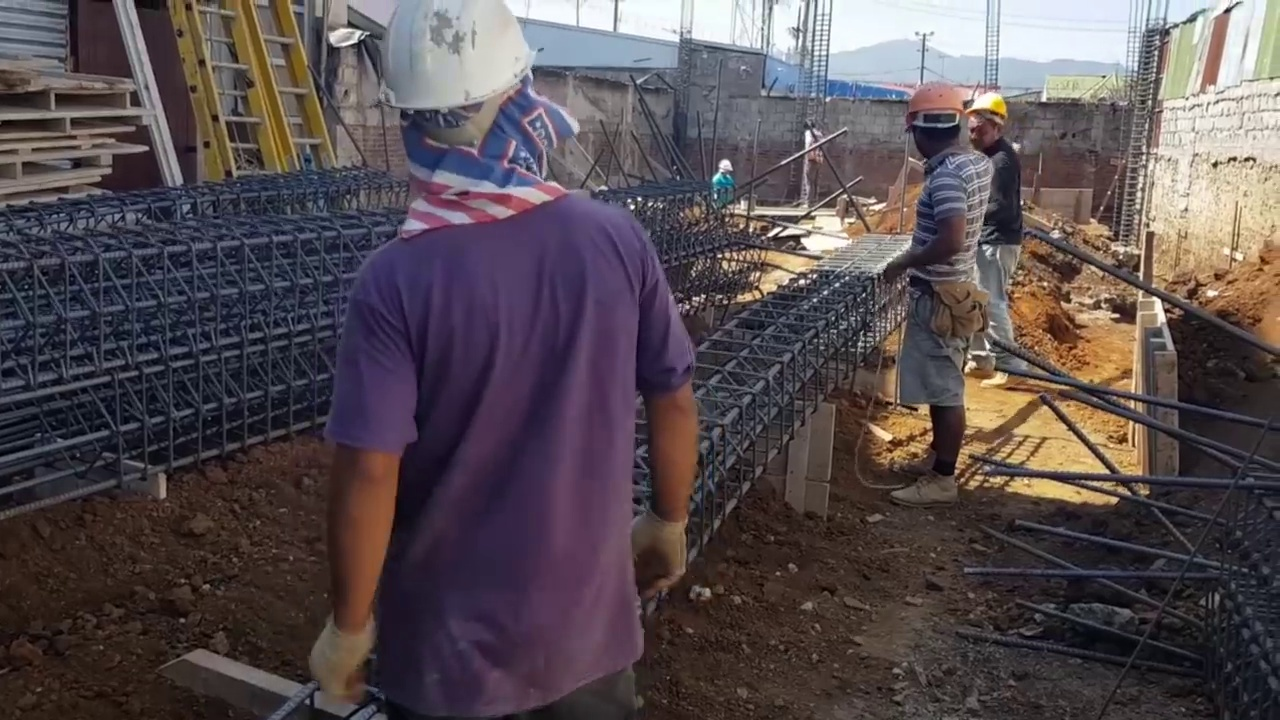helmet: (369, 4, 534, 109), (903, 80, 968, 130), (968, 91, 1008, 125), (718, 160, 734, 173)
helmet-off: (802, 116, 817, 132)
helmet-on: (347, 7, 537, 189), (902, 82, 968, 169), (965, 90, 1015, 154), (718, 160, 734, 176)
person: (321, 22, 696, 706), (887, 84, 987, 496), (972, 92, 1026, 376), (800, 117, 825, 209), (706, 161, 734, 207)
